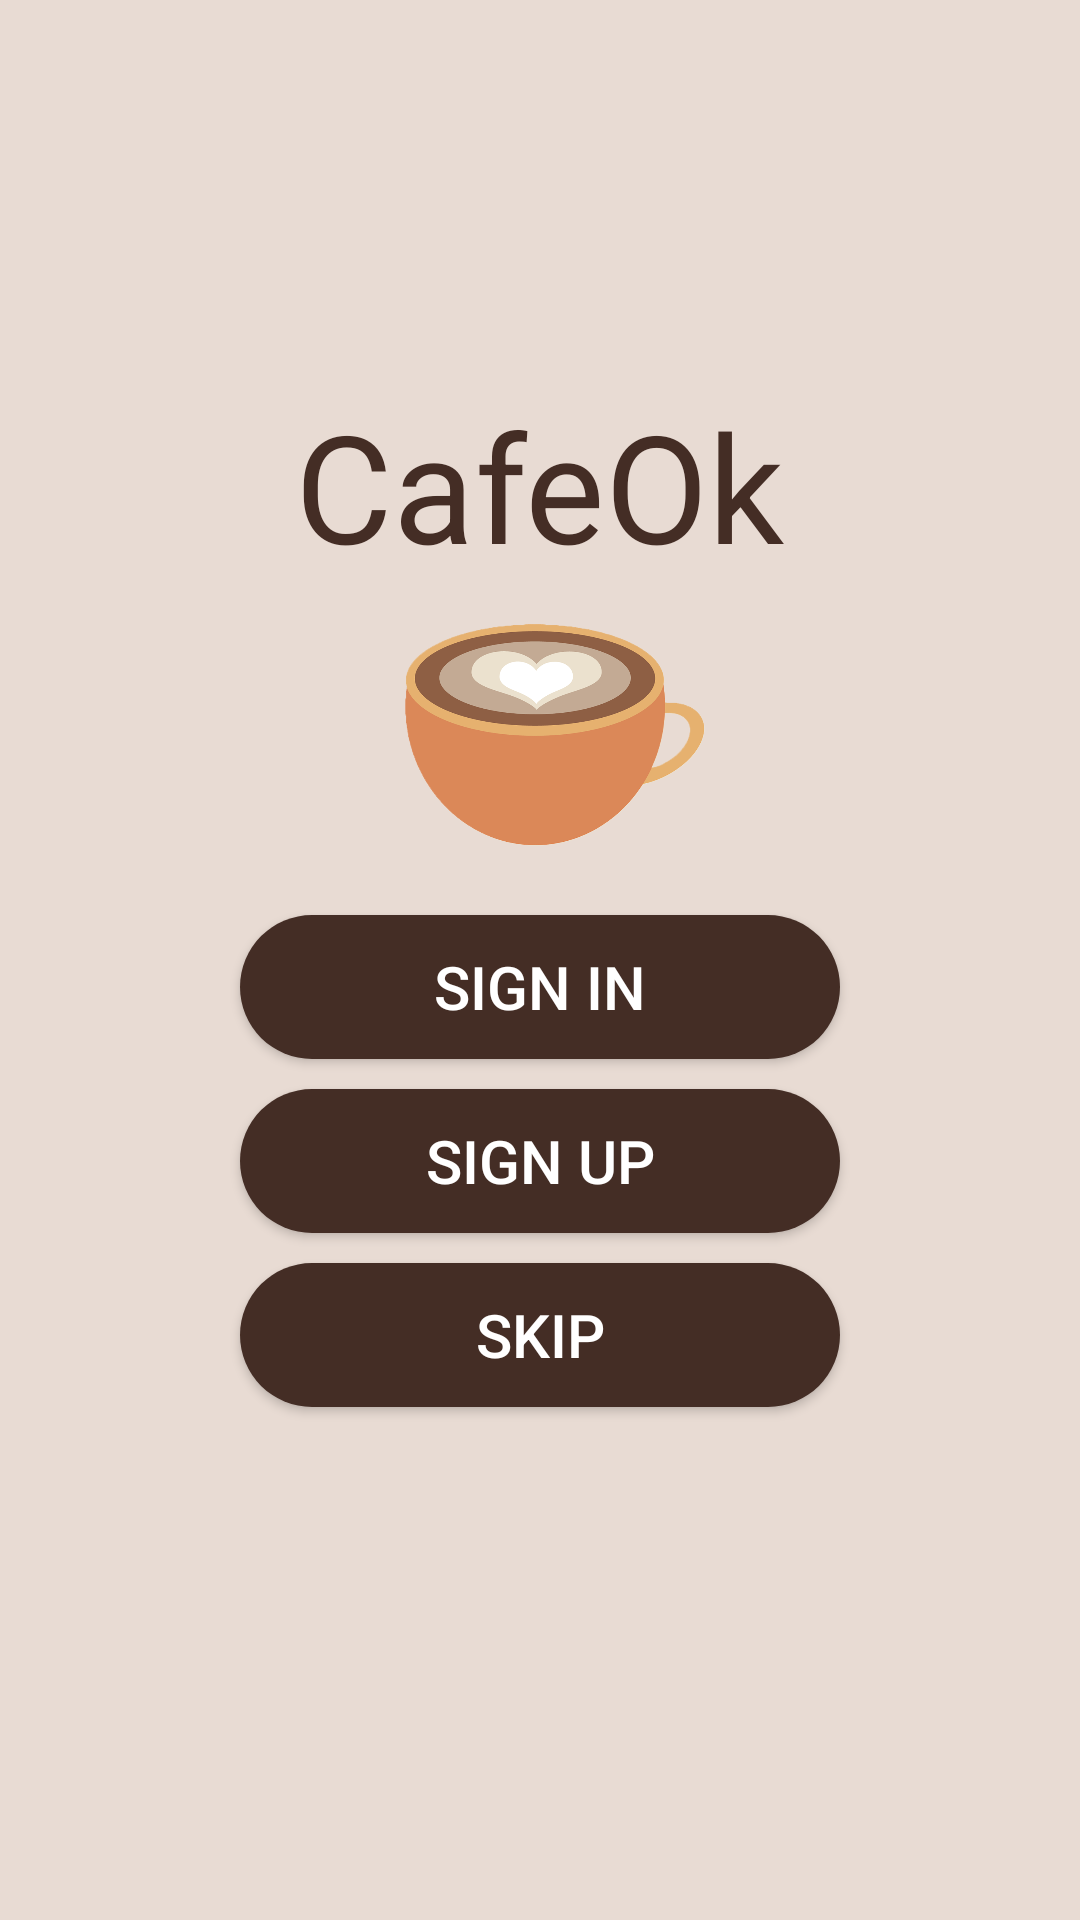

Screen size 1080 x 1920. Icon name, then its box in pixels as (x1, y1, x2, y2):
coffepng: (405, 624, 704, 845)
